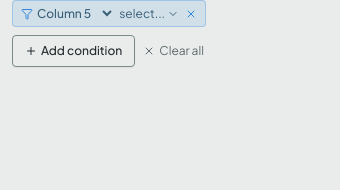
the subgroup filter’s values while blind (#1615) › asks with the viewer’s scope, and says why a rating column has no values
Click the button "select..." at (149, 14), box [119, 6, 179, 22]
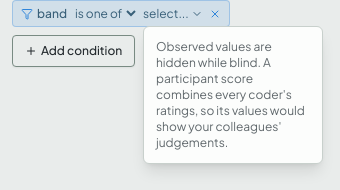
expect the text "Observed values are hidden while blind. A participant score combines every coder's ratings, so its values would show you" is shown: met, box [156, 38, 305, 150]
